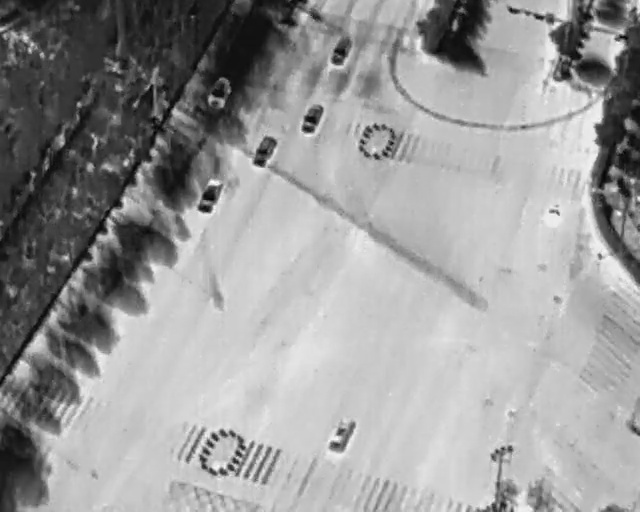Car: (325, 415, 360, 456), (195, 175, 225, 215), (249, 132, 280, 170), (206, 73, 235, 111), (298, 99, 326, 137), (328, 33, 353, 67)
